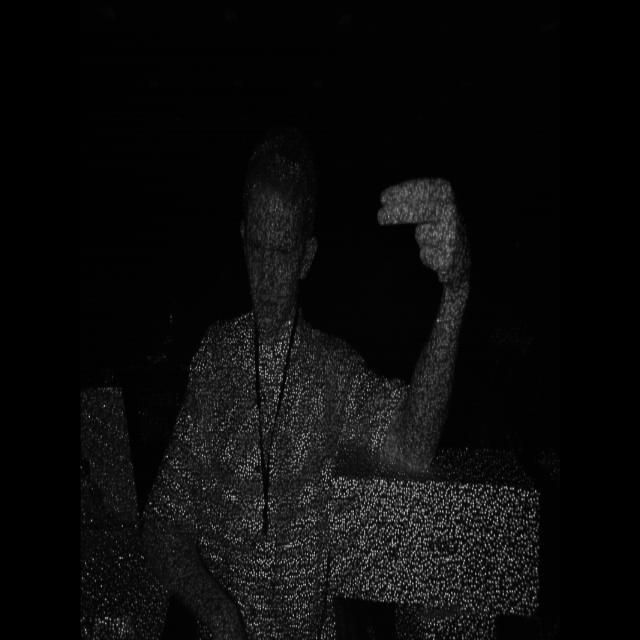H: (370, 162, 471, 288)
